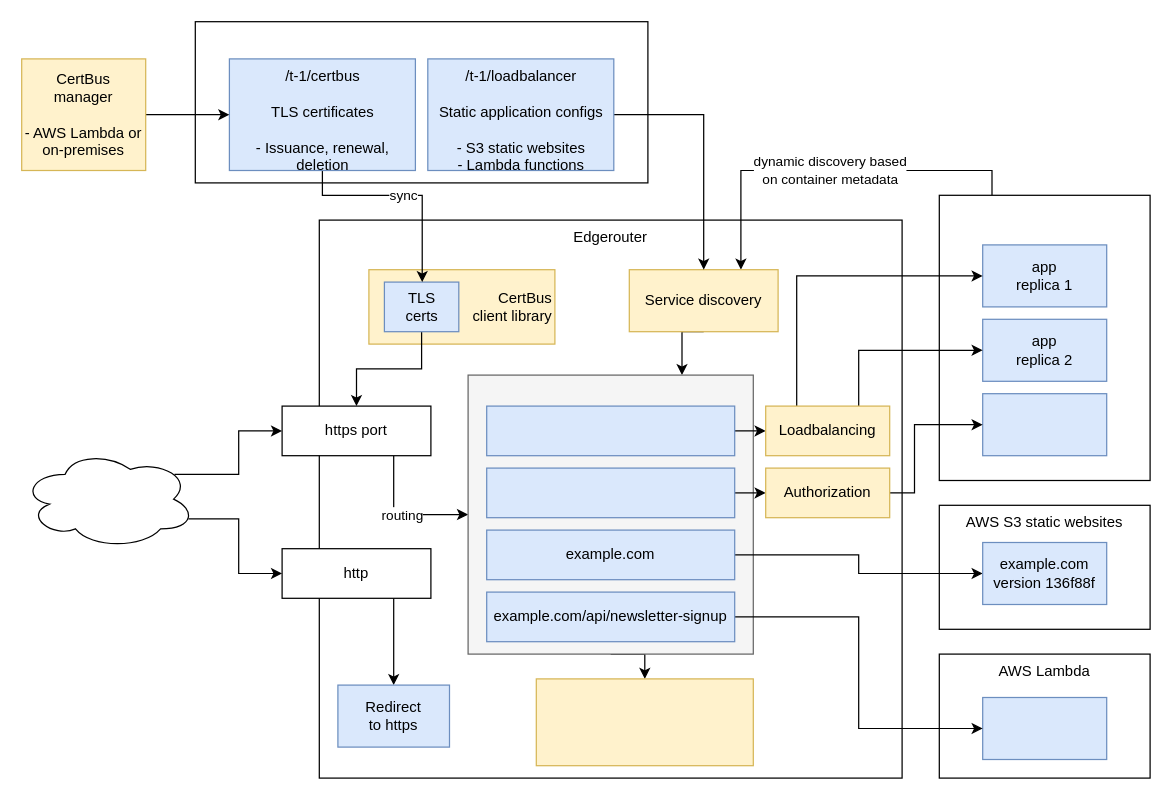
Some shapes in this 1172 by 800 pixel diagram are drawn without their labels. The box of each missing label's shape, as (x1, y1, x2, y2) in pixels:
admin panel: (981, 392, 1107, 456)
app.example.com/: (485, 405, 735, 456)
app.example.com/admin: (485, 467, 735, 518)
Docker (also swarm supported): (938, 194, 1150, 480)
EventHorizon: (194, 20, 648, 183)
Mounts: (467, 374, 753, 654)
newsletter-signup: (981, 696, 1107, 760)
Prometheus metrics (per-app) - Request rates - Error rates - Latencies: (535, 678, 753, 766)
Traffic from internet: (20, 448, 195, 549)
